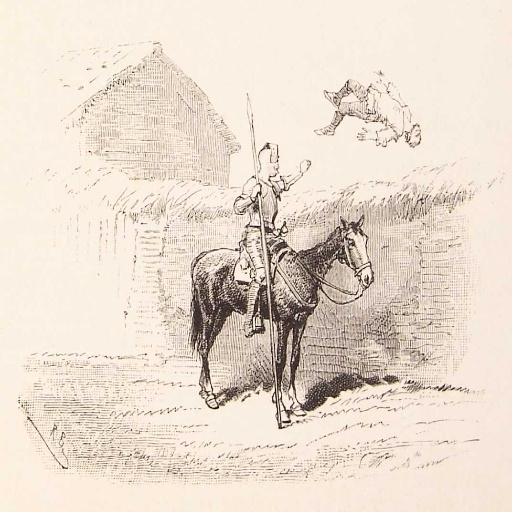hand: (355, 125, 375, 141), (371, 68, 387, 84), (298, 158, 312, 174), (250, 181, 261, 201)
